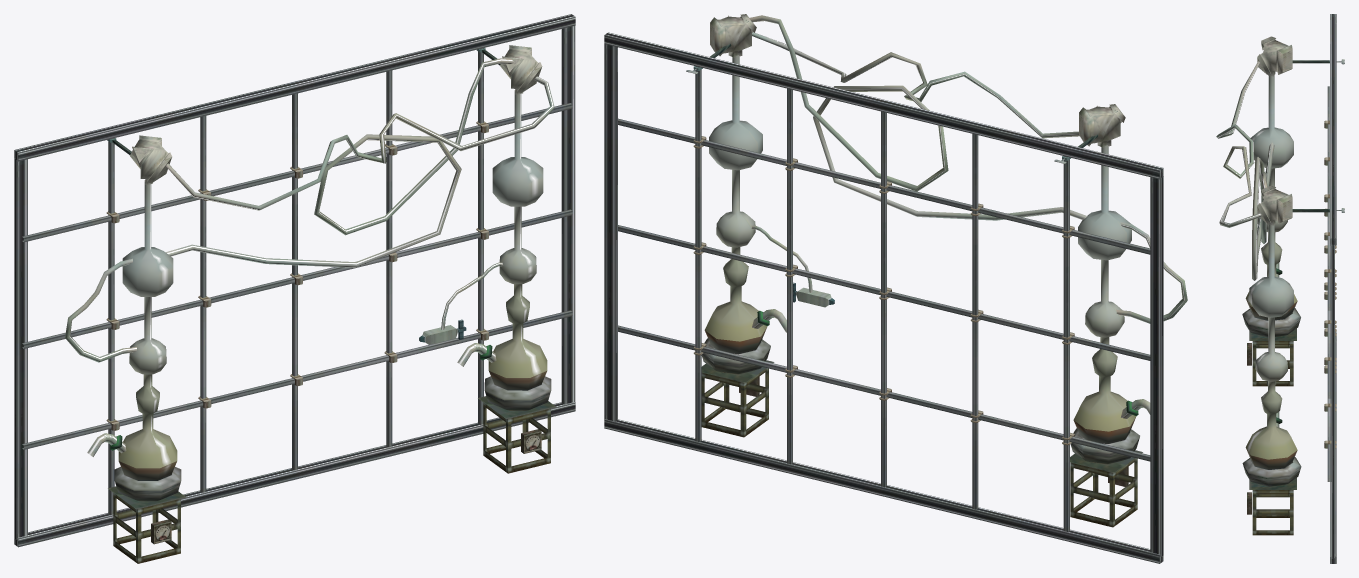
Rendered from glass_tube_rack.fbx.
The picture shows the model from 3 angles, left to right: view 1: azimuth 30°, elevation 25°; view 2: azimuth 150°, elevation 25°; view 3: azimuth 270°, elevation 25°; orthographic projection. The views are drawn at different scales.
Parts seen in each view (by area): view 1: mesh_0, mesh_1, mesh_2; view 2: mesh_0, mesh_1, mesh_2; view 3: mesh_1, mesh_2, mesh_0.
Part boxes in pixels (x1,y1,x2,y2): mesh_0: (14, 14, 575, 547); mesh_1: (65, 58, 554, 468); mesh_2: (108, 45, 556, 563); mesh_0: (604, 32, 1163, 563); mesh_1: (705, 15, 1187, 431); mesh_2: (701, 14, 1142, 527); mesh_1: (1216, 61, 1297, 459); mesh_2: (1242, 36, 1301, 535); mesh_0: (1267, 14, 1344, 563).
Size of the model in its own units: 200 by 140 by 48.38.
3 materials, 3 textured.
